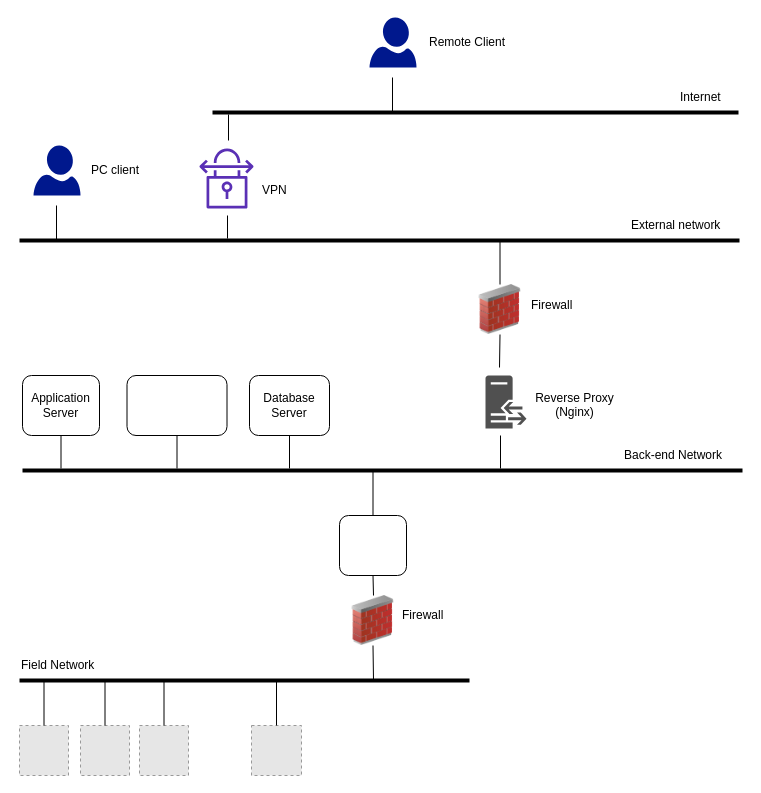
Image size: 761x793. Some labels were removed from this diagram. Grey dashed boxes stand in for pictures. Here are the shapes that lost their labels. From the top down, the box of each, then its label:
(126, 374, 227, 436): Communication Manager (CM)
(338, 514, 406, 576): OPC UA Server
